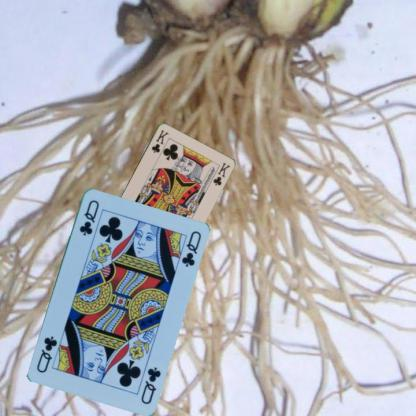Kc: (148, 127, 170, 154)
Qc: (138, 364, 162, 405), (76, 197, 100, 237)
